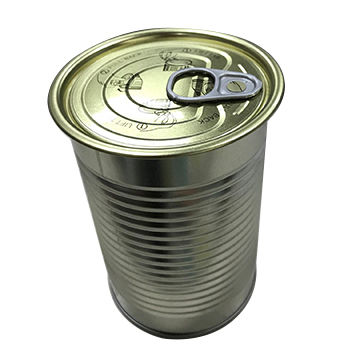metal: (46, 26, 286, 340)
